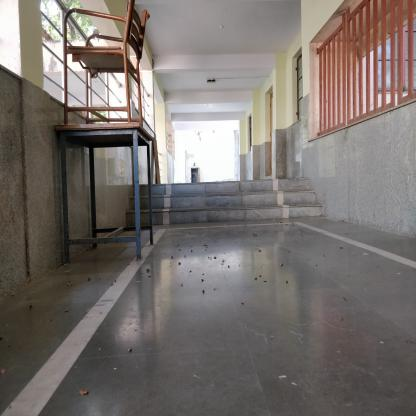stairs: (157, 180, 310, 225)
